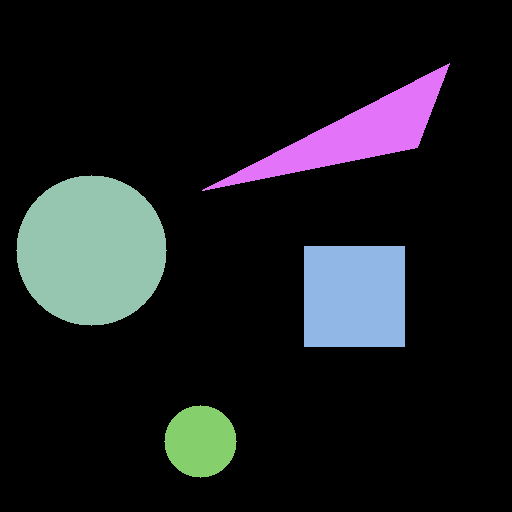circle: (16, 175, 166, 325), (164, 405, 236, 477)
square: (304, 246, 404, 346)
triangle: (202, 63, 449, 190)
